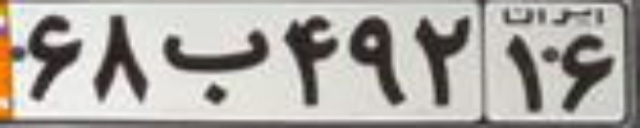1: (501, 33, 545, 111)
2: (413, 14, 479, 106)
4: (281, 14, 338, 105)
6: (18, 12, 84, 102), (554, 33, 616, 112)
8: (88, 12, 152, 102)
9: (345, 15, 406, 105)
be: (160, 26, 273, 106)
